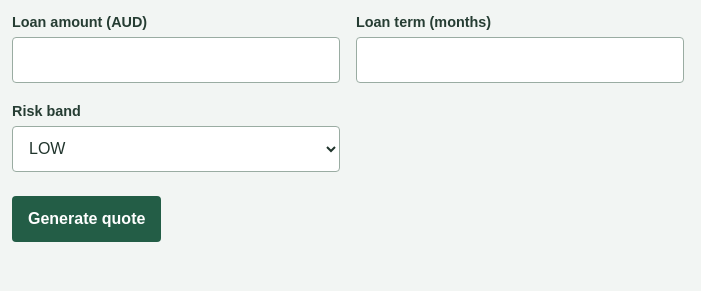
Test case: LoanQuoteForm › requires loan amount and term
Click the button "Generate quote" at (87, 219), box [12,196,161,242]
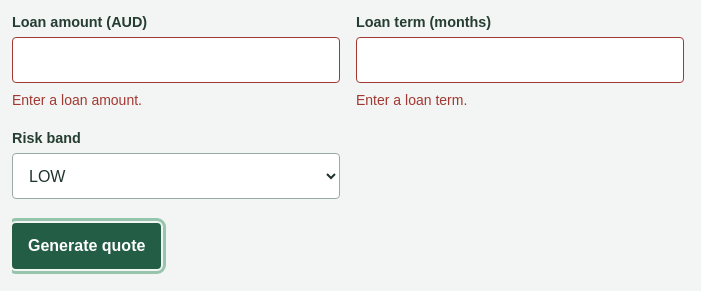
Expected: the text "Enter a loan amount." is shown, [12,92,142,108]
Expected: the text "Enter a loan term." is shown, [356,92,467,108]
